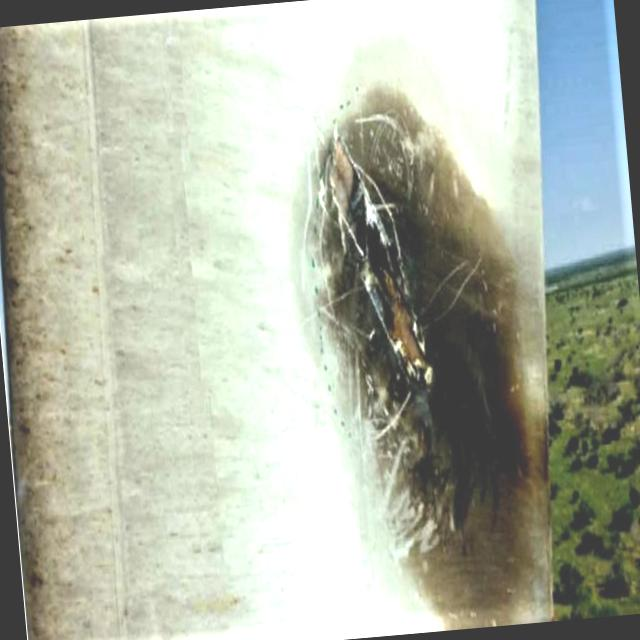crack: (296, 73, 547, 564)
